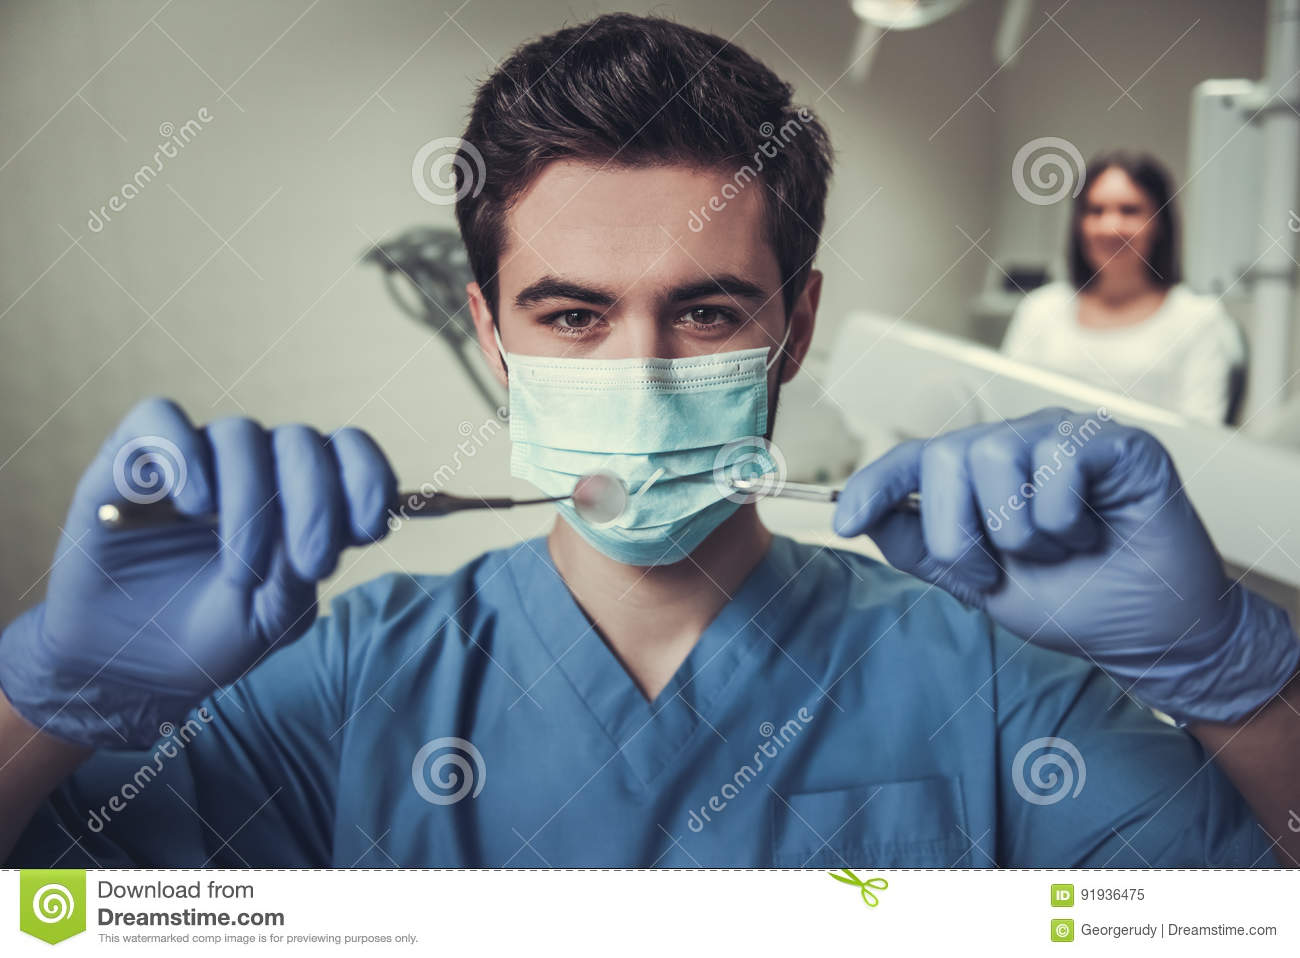mask: (504, 345, 778, 560)
